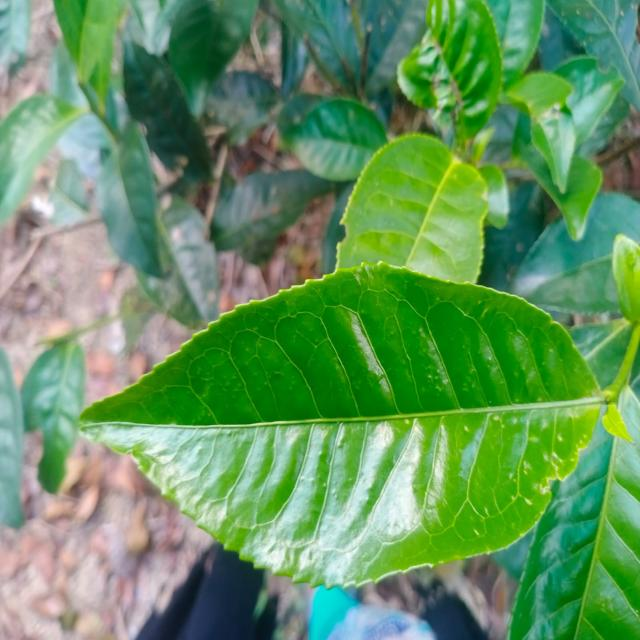Category D(7+ days, Not for Tea): (60, 253, 609, 596)
